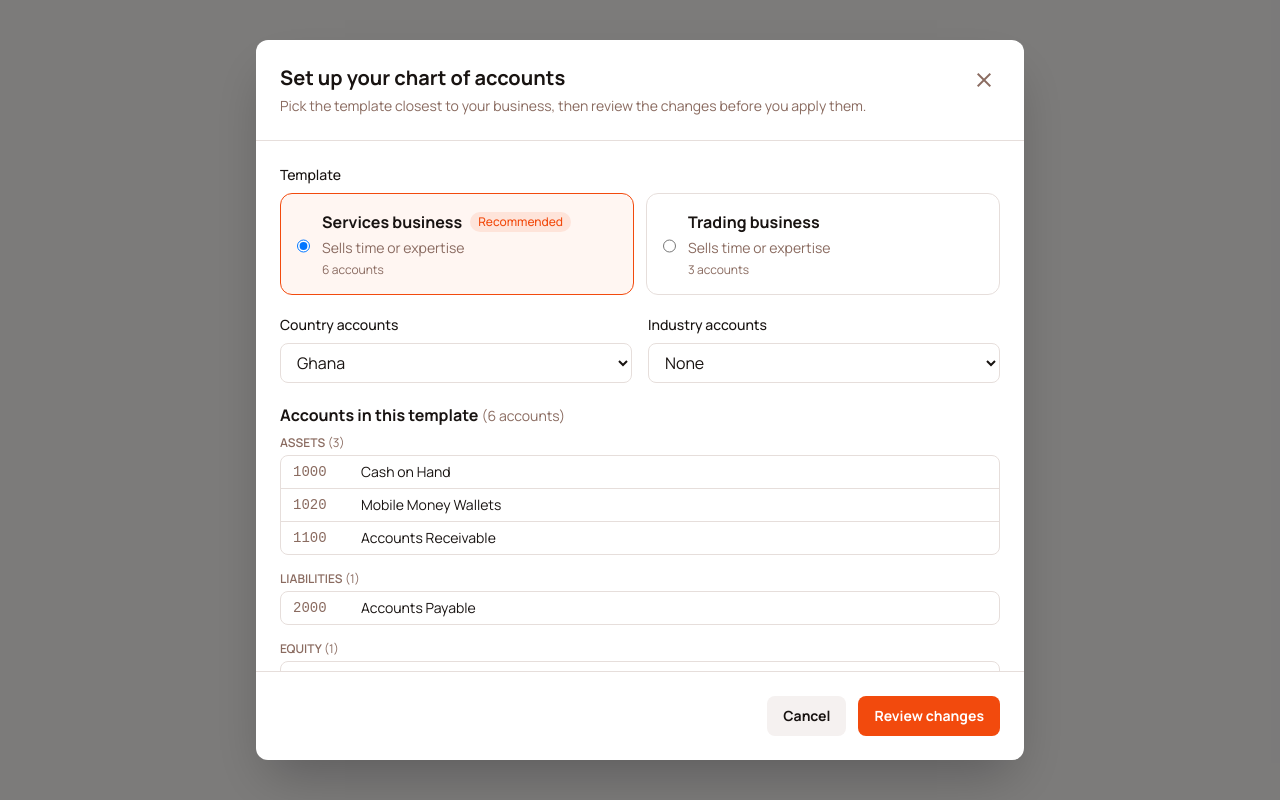
Test: CoaTemplatePicker › Back returns to the choice without applying
Expected: the element with test id "coa-template-preview" is shown, [280,435,1000,671]
Click the button with test id "coa-template-review" at (929,716), box [858,696,1000,736]
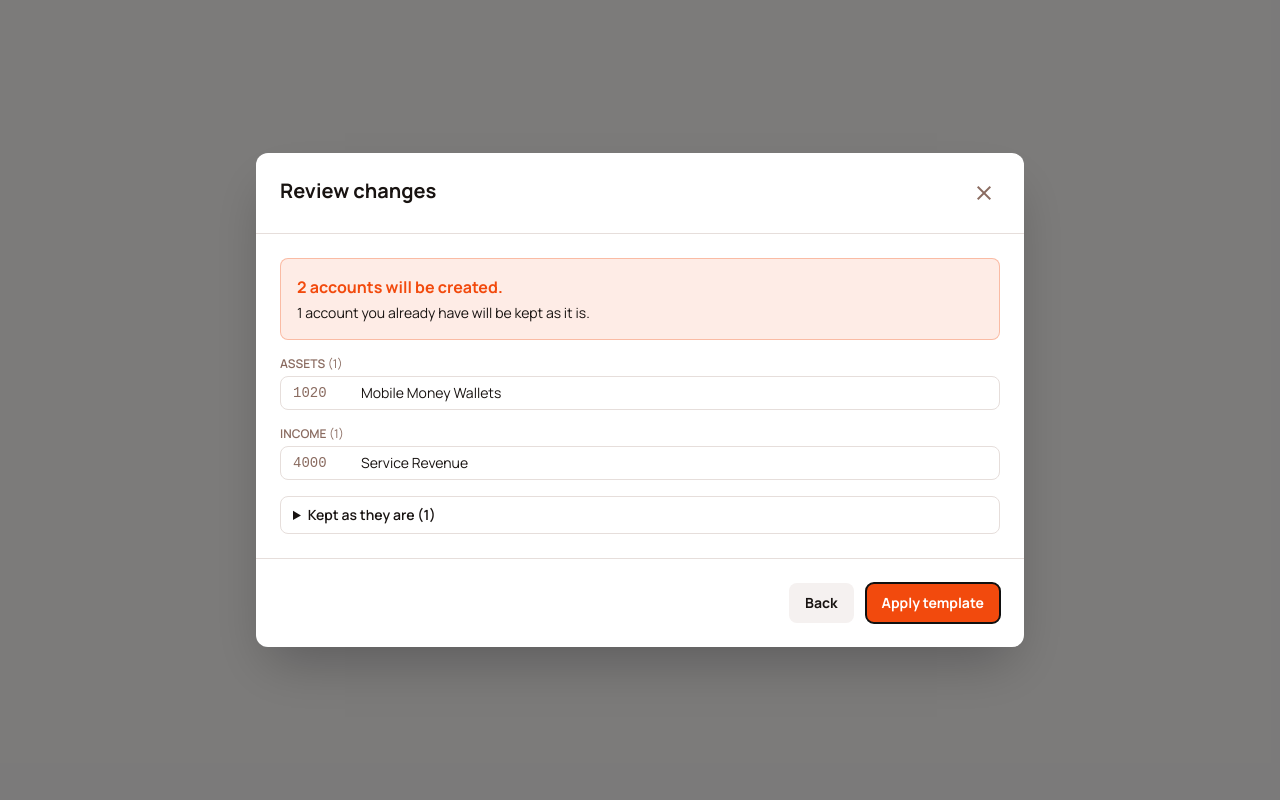
Expected: the element with test id "coa-template-review-panel" is shown, [280,258,1000,534]
Click the button with test id "coa-template-back" at (821,603), box [789,583,854,623]
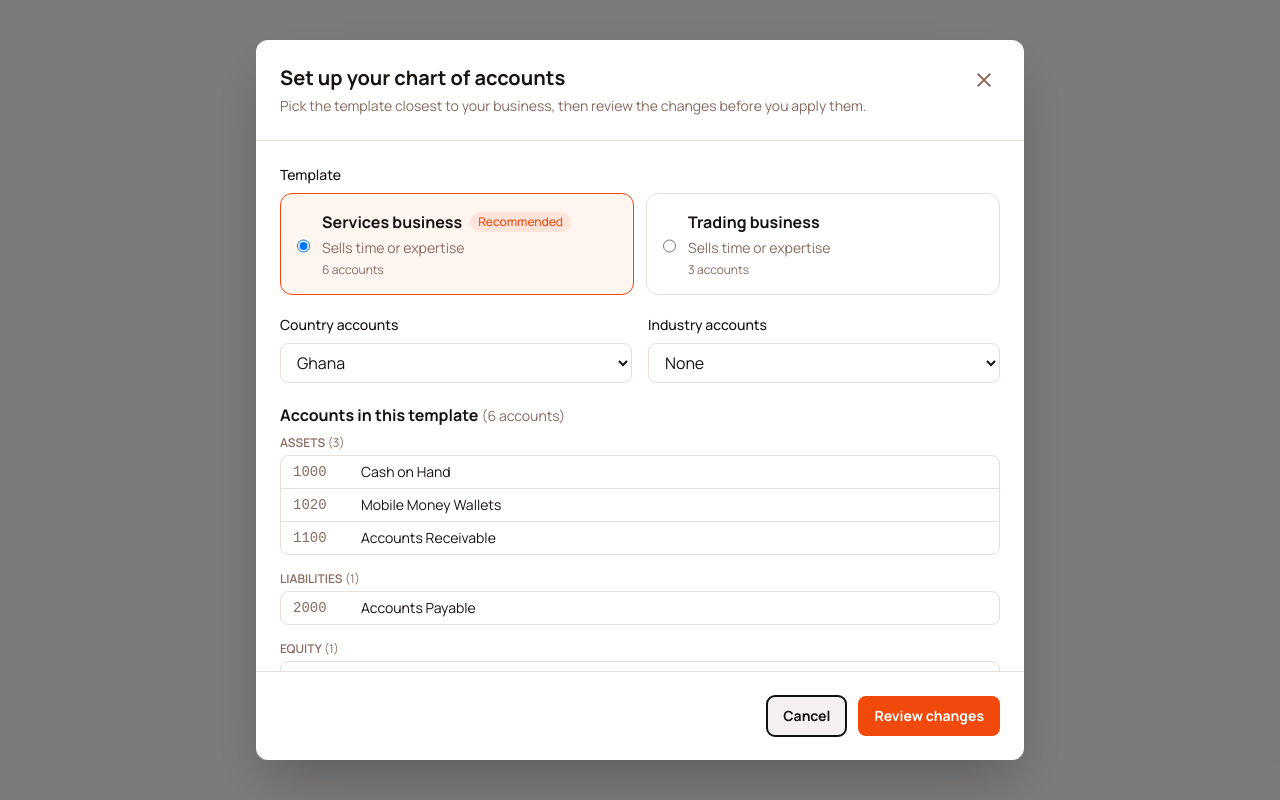
Expected: the element with test id "coa-template-preview" is shown, [280,435,1000,671]
